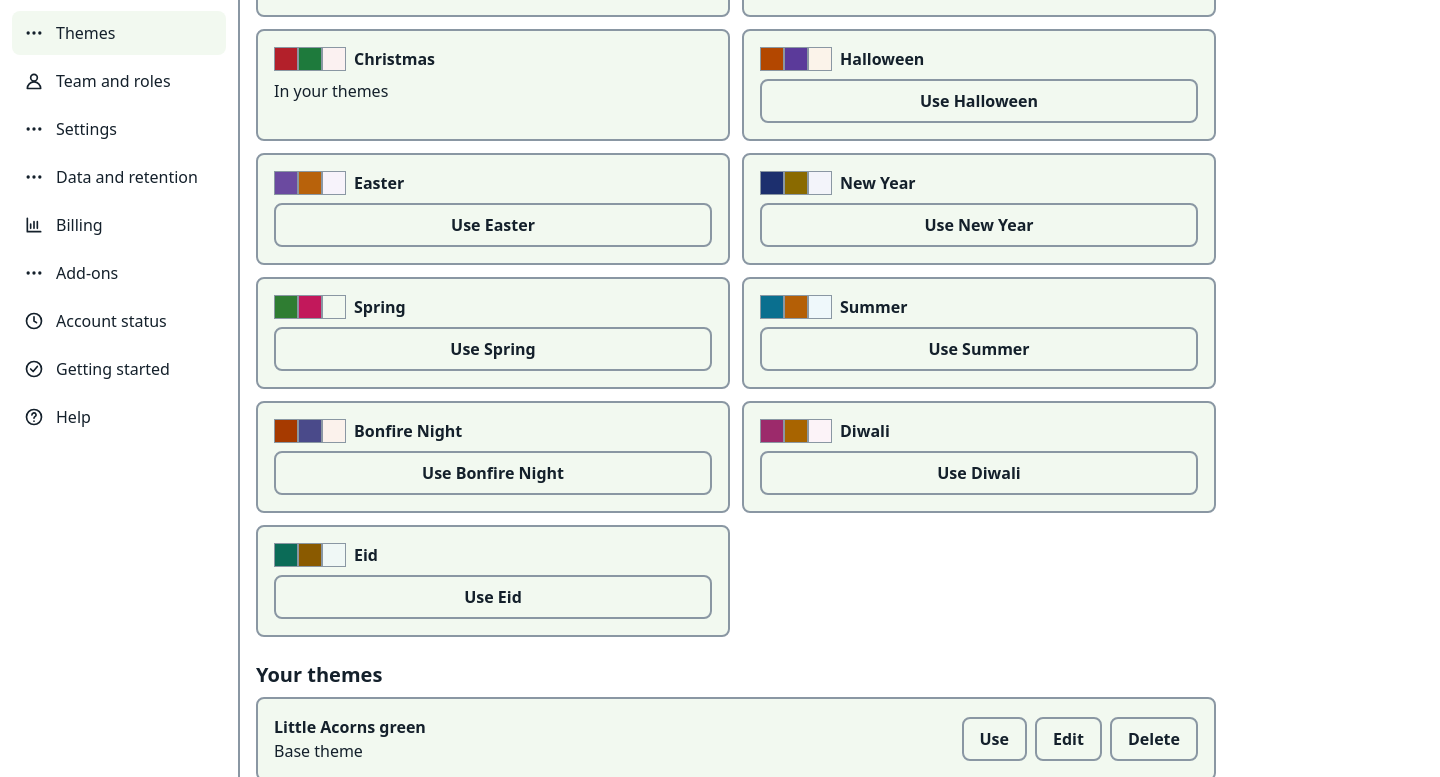
Test case: C17 Themes page (BP-7) › stores a copy of a preset and makes it the base theme, counting it in the saved themes
The width and height of the screenshot is (1440, 777).
(page scrolled)
Click the button "Use Spring" at coordinates (493, 349), box left=274, top=327, right=712, bottom=371
(page scrolled)
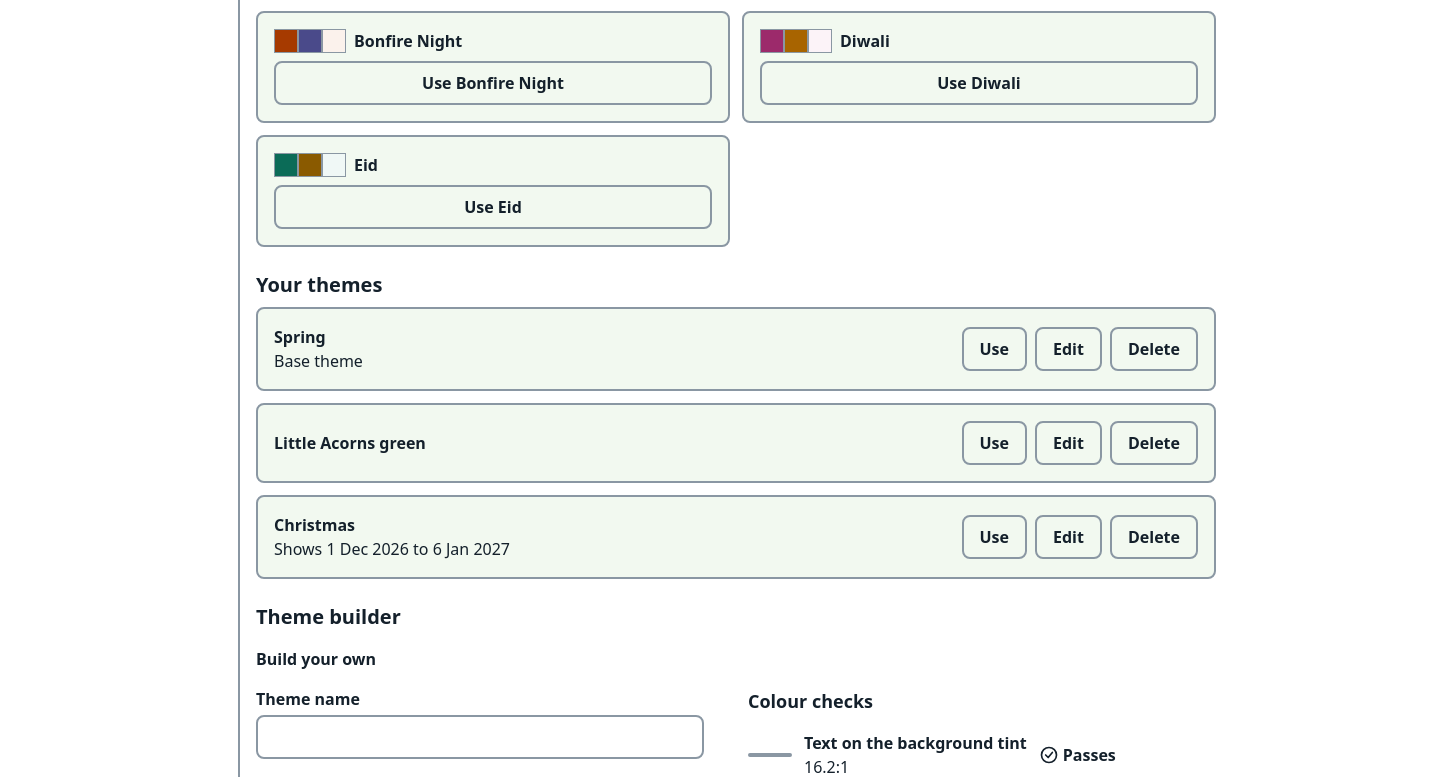
Result: the list item "Spring" shows "Base theme" at left=274, top=350, right=363, bottom=372
